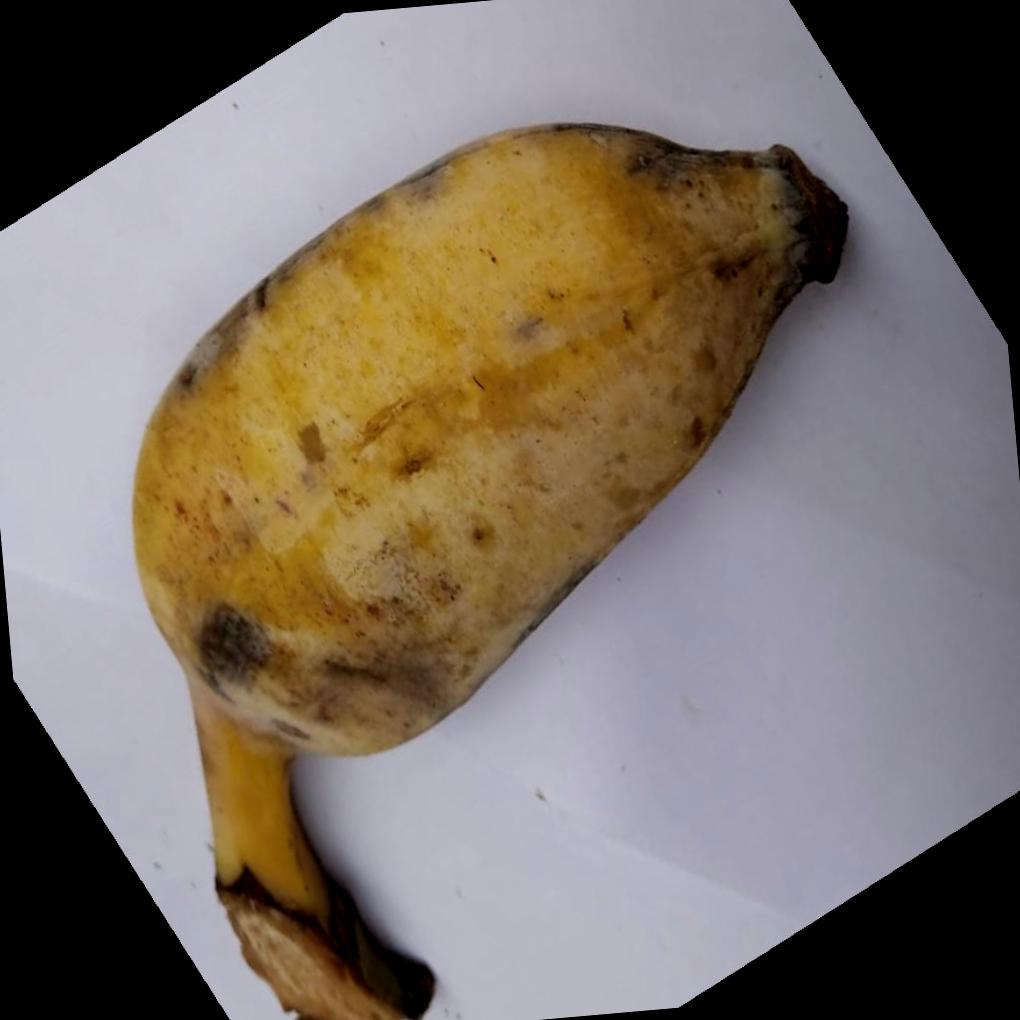Banana Ripe: (107, 97, 892, 971)
